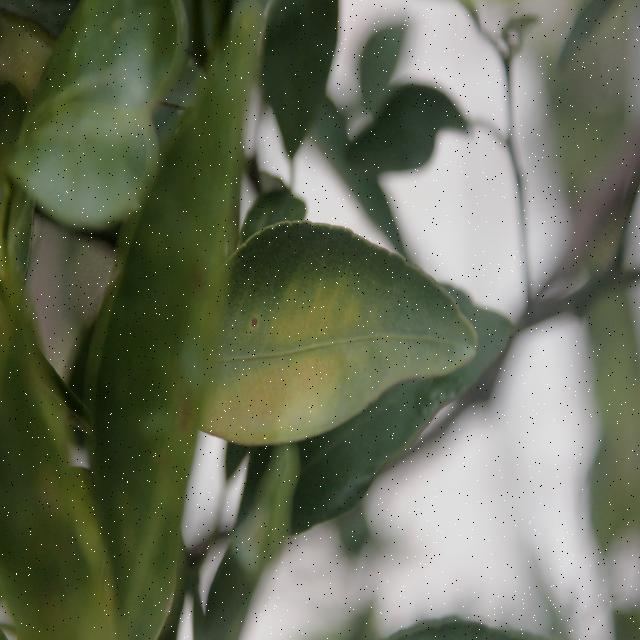greening: (224, 226, 417, 435)
